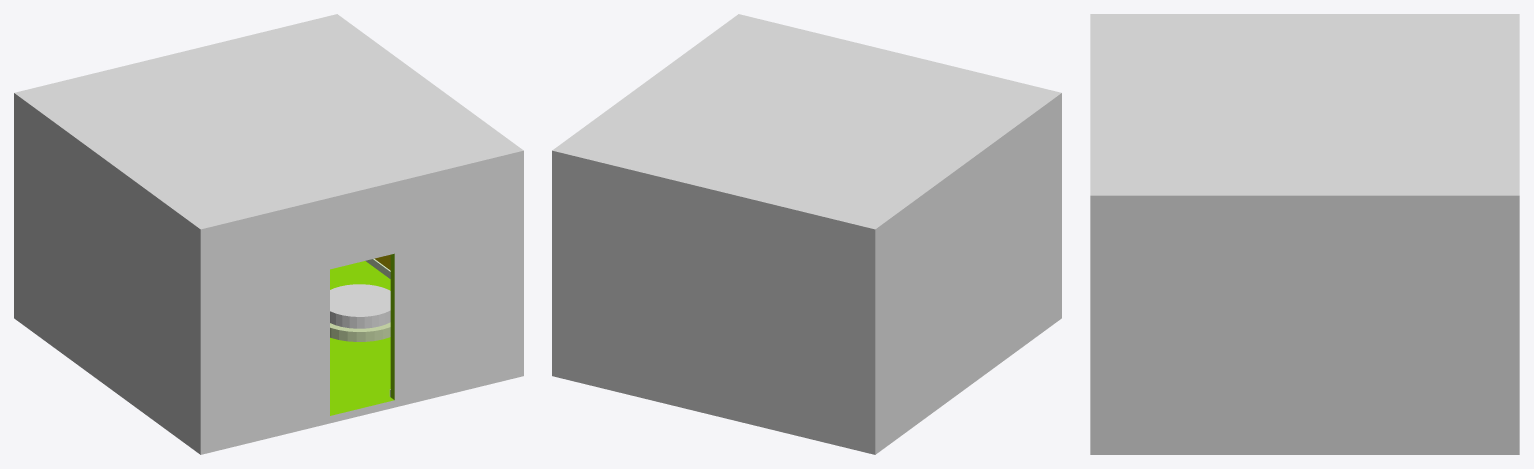
Rendered from roomwithmat.fbx.
3 views of the same model, side by side, from view 1: azimuth 30°, elevation 25°; view 2: azimuth 150°, elevation 25°; view 3: azimuth 270°, elevation 25° (orthographic). The views are drawn at different scales.
Visible parts, largest first — view 1: Floor, b3; view 2: Floor; view 3: Floor.
Boxes of the visible parts, x1=… form: Floor: x1=14, y1=14, x2=523, y2=454; b3: x1=330, y1=284, x2=390, y2=341; Floor: x1=552, y1=14, x2=1061, y2=454; Floor: x1=1090, y1=14, x2=1519, y2=454.
Bounding box in the file's own units: 200 × 134 × 200.
